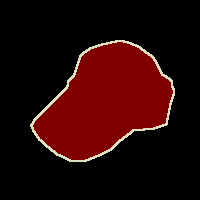hat: (31, 40, 174, 161)
